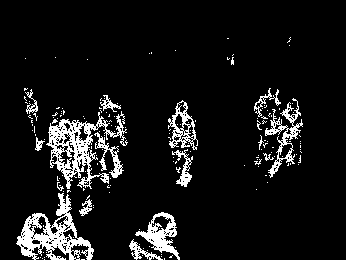person: (164, 100, 200, 188), (127, 210, 179, 260), (52, 110, 75, 209), (272, 97, 301, 175), (252, 87, 282, 162), (100, 96, 128, 175), (73, 120, 96, 210)
